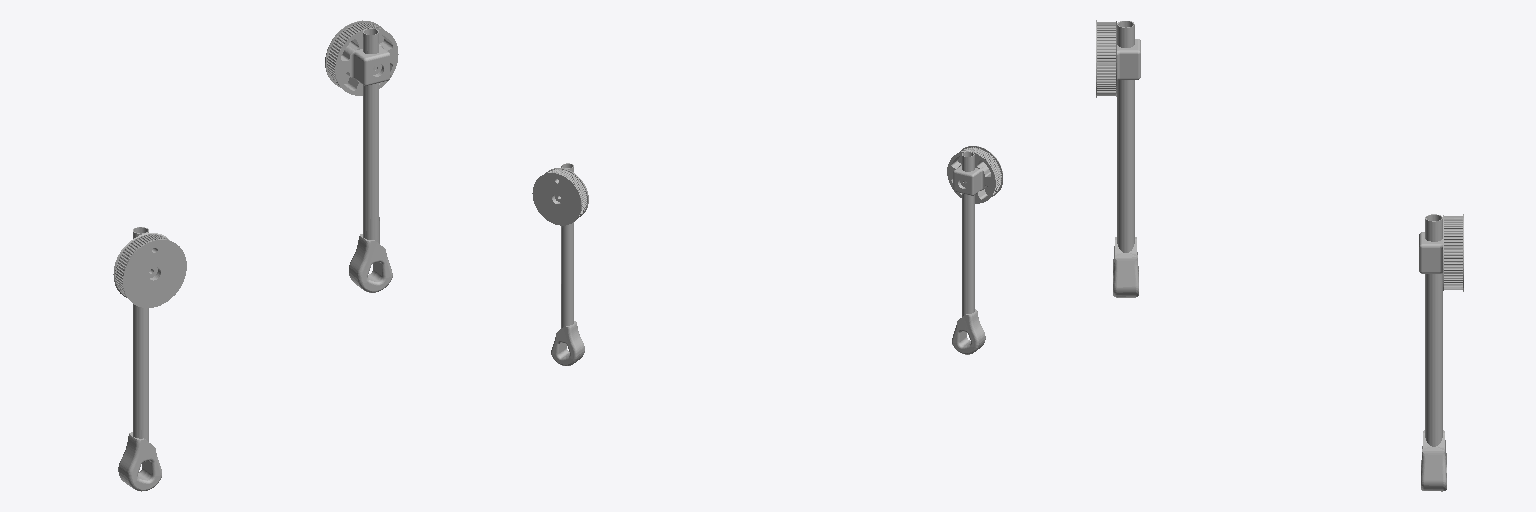
robot.urdf — claw:
<?xml version="1.0" encoding="utf-8"?>
<!-- This URDF was automatically created by SolidWorks to URDF Exporter! Originally created by [author] ([email redacted]) 
     Commit Version: 1.6.0-4-g7f85cfe  Build Version: 1.6.7995.38578
     For more information, please see http://wiki.ros.org/sw_urdf_exporter -->
<robot
  name="claw">
  <link
    name="base_link">
    <inertial>
      <origin
        xyz="0.0035472 -0.015685 0.00012867"
        rpy="0 0 0" />
      <mass
        value="5" />
      <inertia
        ixx="0.0031694"
        ixy="-6.3109E-06"
        ixz="-1.7238E-07"
        iyy="0.010685"
        iyz="1.0915E-07"
        izz="0.009926" />
    </inertial>
    <visual>
      <origin
        xyz="0 0 0"
        rpy="1.5707 0 1.5707" />
      <geometry>
        <mesh
          filename="package://claw/meshes/base_link.dae" />
      </geometry>
      <material
        name="">
        <color
          rgba="0.75294 0.75294 0.75294 1" />
      </material>
    </visual>
    <collision>
      <origin
        xyz="0 0 0"
        rpy="0 0 0" />
      <geometry>
        <mesh
          filename="package://claw/meshes/base_link.STL" />
      </geometry>
    </collision>
  </link>
  <link
    name="hip1">
    <inertial>
      <origin
        xyz="-0.023449 -0.012102 0.12134"
        rpy="0 0 0" />
      <mass
        value="1" />
      <inertia
        ixx="0.00038685"
        ixy="-1.3557E-05"
        ixz="-2.6501E-06"
        iyy="0.00040347"
        iyz="2.7091E-05"
        izz="0.00035185" />
    </inertial>
    <visual>
      <origin
        xyz="0 0 0"
        rpy="0 0 0" />
      <geometry>
        <mesh
          filename="package://claw/meshes/hip1.dae" />
      </geometry>
      <material
        name="">
        <color
          rgba="0.75294 0.75294 0.75294 1" />
      </material>
    </visual>
    <collision>
      <origin
        xyz="0 0 0"
        rpy="0 0 0" />
      <geometry>
        <mesh
          filename="package://claw/meshes/hip1.STL" />
      </geometry>
    </collision>
  </link>
  <joint
    name="HA1"
    type="continuous">
    <origin
      xyz="0.0645 0.1407 -0.030524"
      rpy="0 1.5708 0" />
    <parent
      link="base_link" />
    <child
      link="hip1" />
    <axis
      xyz="0 0 1" />
  </joint>
  <link
    name="leg1_link1">
    <inertial>
      <origin
        xyz="0.081078 -5.4044E-05 0.010528"
        rpy="0 0 0" />
      <mass
        value="1.5" />
      <inertia
        ixx="0.00016951"
        ixy="-3.6625E-05"
        ixz="3.3507E-07"
        iyy="0.0011555"
        iyz="5.0545E-08"
        izz="0.0013025" />
    </inertial>
    <visual>
      <origin
        xyz="0 0 0"
        rpy="0 0 0" />
      <geometry>
        <mesh
          filename="package://claw/meshes/leg1_link1.dae" />
      </geometry>
      <material
        name="">
        <color
          rgba="0.75294 0.75294 0.75294 1" />
      </material>
    </visual>
    <collision>
      <origin
        xyz="0 0 0"
        rpy="0 0 0" />
      <geometry>
        <mesh
          filename="package://claw/meshes/leg1_link1.STL" />
      </geometry>
    </collision>
  </link>
  <joint
    name="HF1"
    type="continuous">
    <origin
      xyz="0.0361733752673749 0 0.173825001007693"
      rpy="-1.5707963267949 0 0" />
    <parent
      link="hip1" />
    <child
      link="leg1_link1" />
    <axis
      xyz="0 0 1" />
  </joint>
  <link
    name="leg1_link2">
    <inertial>
      <origin
        xyz="0.062745 0.00028101 0.0091689"
        rpy="0 0 0" />
      <mass
        value="0.3" />
      <inertia
        ixx="2.4886E-05"
        ixy="4.039E-07"
        ixz="-5.3837E-08"
        iyy="8.2423E-05"
        iyz="-2.8631E-08"
        izz="9.1326E-05" />
    </inertial>
    <visual>
      <origin
        xyz="0 0 0"
        rpy="0 0 0" />
      <geometry>
        <mesh
          filename="package://claw/meshes/leg1_link2.dae" />
      </geometry>
      <material
        name="">
        <color
          rgba="0.75294 0.75294 0.75294 1" />
      </material>
    </visual>
    <collision>
      <origin
        xyz="0 0 0"
        rpy="0 0 0" />
      <geometry>
        <mesh
          filename="package://claw/meshes/leg1_link2.STL" />
      </geometry>
    </collision>
  </link>
  <joint
    name="KF1"
    type="continuous">
    <origin
      xyz="0.2245 0 0"
      rpy="0 0 -0.0014246" />
    <parent
      link="leg1_link1" />
    <child
      link="leg1_link2" />
    <axis
      xyz="0 0 1" />
  </joint>
  <link
    name="hip2">
    <inertial>
      <origin
        xyz="-0.023416 0.01208 0.12041"
        rpy="0 0 0" />
      <mass
        value="1" />
      <inertia
        ixx="0.00038698"
        ixy="1.3536E-05"
        ixz="-2.6717E-06"
        iyy="0.00040367"
        iyz="-2.7103E-05"
        izz="0.00035209" />
    </inertial>
    <visual>
      <origin
        xyz="0 0 0"
        rpy="0 0 0" />
      <geometry>
        <mesh
          filename="package://claw/meshes/hip2.dae" />
      </geometry>
      <material
        name="">
        <color
          rgba="0.75294 0.75294 0.75294 1" />
      </material>
    </visual>
    <collision>
      <origin
        xyz="0 0 0"
        rpy="0 0 0" />
      <geometry>
        <mesh
          filename="package://claw/meshes/hip2.STL" />
      </geometry>
    </collision>
  </link>
  <joint
    name="HA2"
    type="continuous">
    <origin
      xyz="0.0654999999999997 -0.140699273206225 -0.0305242368205386"
      rpy="0 1.5707963267949 0" />
    <parent
      link="base_link" />
    <child
      link="hip2" />
    <axis
      xyz="0 0 1" />
  </joint>
  <link
    name="leg2_link1">
    <inertial>
      <origin
        xyz="0.081078 -5.1327E-05 -0.010528"
        rpy="0 0 0" />
      <mass
        value="1.5" />
      <inertia
        ixx="0.00016951"
        ixy="-3.6626E-05"
        ixz="-3.3506E-07"
        iyy="0.0011555"
        iyz="-4.7415E-08"
        izz="0.0013025" />
    </inertial>
    <visual>
      <origin
        xyz="0 0 0"
        rpy="0 0 0" />
      <geometry>
        <mesh
          filename="package://claw/meshes/leg2_link1.dae" />
      </geometry>
      <material
        name="">
        <color
          rgba="0.75294 0.75294 0.75294 1" />
      </material>
    </visual>
    <collision>
      <origin
        xyz="0 0 0"
        rpy="0 0 0" />
      <geometry>
        <mesh
          filename="package://claw/meshes/leg2_link1.STL" />
      </geometry>
    </collision>
  </link>
  <joint
    name="HF2"
    type="continuous">
    <origin
      xyz="0.0361733752673847 0 0.172825001007691"
      rpy="-1.5707963267949 0 0" />
    <parent
      link="hip2" />
    <child
      link="leg2_link1" />
    <axis
      xyz="0 0 1" />
  </joint>
  <link
    name="leg2_link2">
    <inertial>
      <origin
        xyz="0.062744 0.00028101 -0.009169"
        rpy="0 0 0" />
      <mass
        value="0.3" />
      <inertia
        ixx="2.4886E-05"
        ixy="4.039E-07"
        ixz="5.3766E-08"
        iyy="8.2423E-05"
        iyz="2.8771E-08"
        izz="9.1326E-05" />
    </inertial>
    <visual>
      <origin
        xyz="0 0 0"
        rpy="0 0 0" />
      <geometry>
        <mesh
          filename="package://claw/meshes/leg2_link2.dae" />
      </geometry>
      <material
        name="">
        <color
          rgba="0.75294 0.75294 0.75294 1" />
      </material>
    </visual>
    <collision>
      <origin
        xyz="0 0 0"
        rpy="0 0 0" />
      <geometry>
        <mesh
          filename="package://claw/meshes/leg2_link2.STL" />
      </geometry>
    </collision>
  </link>
  <joint
    name="KF2"
    type="continuous">
    <origin
      xyz="0.22449657290337 0 0"
      rpy="0 0 -0.00142456498764465" />
    <parent
      link="leg2_link1" />
    <child
      link="leg2_link2" />
    <axis
      xyz="0 0 1" />
  </joint>
  <link
    name="hip3">
    <inertial>
      <origin
        xyz="-0.023415 0.012095 -0.1106"
        rpy="0 0 0" />
      <mass
        value="1" />
      <inertia
        ixx="0.00038695"
        ixy="1.355E-05"
        ixz="-3.9215E-05"
        iyy="0.00040367"
        iyz="2.8393E-05"
        izz="0.00035212" />
    </inertial>
    <visual>
      <origin
        xyz="0 0 0"
        rpy="0 0 0" />
      <geometry>
        <mesh
          filename="package://claw/meshes/hip3.dae" />
      </geometry>
      <material
        name="">
        <color
          rgba="0.75294 0.75294 0.75294 1" />
      </material>
    </visual>
    <collision>
      <origin
        xyz="0 0 0"
        rpy="0 0 0" />
      <geometry>
        <mesh
          filename="package://claw/meshes/hip3.STL" />
      </geometry>
    </collision>
  </link>
  <joint
    name="HA3"
    type="continuous">
    <origin
      xyz="-0.0655000000000001 -0.140699273206226 -0.0305242368205381"
      rpy="0 1.5707963267949 0" />
    <parent
      link="base_link" />
    <child
      link="hip3" />
    <axis
      xyz="0 0 1" />
  </joint>
  <link
    name="leg3_link1">
    <inertial>
      <origin
        xyz="0.081078 -5.1327E-05 -0.010528"
        rpy="0 0 0" />
      <mass
        value="1.5" />
      <inertia
        ixx="0.00016951"
        ixy="-3.6626E-05"
        ixz="-3.3506E-07"
        iyy="0.0011555"
        iyz="-4.7415E-08"
        izz="0.0013025" />
    </inertial>
    <visual>
      <origin
        xyz="0 0 0"
        rpy="0 0 0" />
      <geometry>
        <mesh
          filename="package://claw/meshes/leg3_link1.dae" />
      </geometry>
      <material
        name="">
        <color
          rgba="0.75294 0.75294 0.75294 1" />
      </material>
    </visual>
    <collision>
      <origin
        xyz="0 0 0"
        rpy="0 0 0" />
      <geometry>
        <mesh
          filename="package://claw/meshes/leg3_link1.STL" />
      </geometry>
    </collision>
  </link>
  <joint
    name="HF3"
    type="continuous">
    <origin
      xyz="0.0361733752673756 0 -0.116174998992309"
      rpy="-1.5707963267949 0 0" />
    <parent
      link="hip3" />
    <child
      link="leg3_link1" />
    <axis
      xyz="0 0 1" />
  </joint>
  <link
    name="leg3_link2">
    <inertial>
      <origin
        xyz="0.062744 0.00028101 -0.009169"
        rpy="0 0 0" />
      <mass
        value="0.3" />
      <inertia
        ixx="2.4886E-05"
        ixy="4.039E-07"
        ixz="5.3766E-08"
        iyy="8.2423E-05"
        iyz="2.8771E-08"
        izz="9.1326E-05" />
    </inertial>
    <visual>
      <origin
        xyz="0 0 0"
        rpy="0 0 0" />
      <geometry>
        <mesh
          filename="package://claw/meshes/leg3_link2.dae" />
      </geometry>
      <material
        name="">
        <color
          rgba="0.75294 0.75294 0.75294 1" />
      </material>
    </visual>
    <collision>
      <origin
        xyz="0 0 0"
        rpy="0 0 0" />
      <geometry>
        <mesh
          filename="package://claw/meshes/leg3_link2.STL" />
      </geometry>
    </collision>
  </link>
  <joint
    name="KF3"
    type="continuous">
    <origin
      xyz="0.22449657290337 0 0"
      rpy="0 0 -0.00013038185156131" />
    <parent
      link="leg3_link1" />
    <child
      link="leg3_link2" />
    <axis
      xyz="0 0 1" />
  </joint>
  <link
    name="hip4">
    <inertial>
      <origin
        xyz="-0.02344 -0.012117 -0.11057"
        rpy="0 0 0" />
      <mass
        value="1" />
      <inertia
        ixx="0.00038684"
        ixy="-1.3565E-05"
        ixz="-3.9188E-05"
        iyy="0.00040347"
        iyz="-2.8419E-05"
        izz="0.00035187" />
    </inertial>
    <visual>
      <origin
        xyz="0 0 0"
        rpy="0 0 0" />
      <geometry>
        <mesh
          filename="package://claw/meshes/hip4.dae" />
      </geometry>
      <material
        name="">
        <color
          rgba="0.75294 0.75294 0.75294 1" />
      </material>
    </visual>
    <collision>
      <origin
        xyz="0 0 0"
        rpy="0 0 0" />
      <geometry>
        <mesh
          filename="package://claw/meshes/hip4.STL" />
      </geometry>
    </collision>
  </link>
  <joint
    name="HA4"
    type="continuous">
    <origin
      xyz="-0.0655 0.1407 -0.030524"
      rpy="0 1.5708 0" />
    <parent
      link="base_link" />
    <child
      link="hip4" />
    <axis
      xyz="0 0 1" />
  </joint>
  <link
    name="leg4_link1">
    <inertial>
      <origin
        xyz="0.081078 -5.4044E-05 0.010528"
        rpy="0 0 0" />
      <mass
        value="1.5" />
      <inertia
        ixx="0.00016951"
        ixy="-3.6625E-05"
        ixz="3.3507E-07"
        iyy="0.0011555"
        iyz="5.0545E-08"
        izz="0.0013025" />
    </inertial>
    <visual>
      <origin
        xyz="0 0 0"
        rpy="0 0 0" />
      <geometry>
        <mesh
          filename="package://claw/meshes/leg4_link1.dae" />
      </geometry>
      <material
        name="">
        <color
          rgba="0.75294 0.75294 0.75294 1" />
      </material>
    </visual>
    <collision>
      <origin
        xyz="0 0 0"
        rpy="0 0 0" />
      <geometry>
        <mesh
          filename="package://claw/meshes/leg4_link1.STL" />
      </geometry>
    </collision>
  </link>
  <joint
    name="HF4"
    type="continuous">
    <origin
      xyz="0.0361733752673765 0 -0.116174998992308"
      rpy="-1.5707963267949 0 0" />
    <parent
      link="hip4" />
    <child
      link="leg4_link1" />
    <axis
      xyz="0 0 1" />
  </joint>
  <link
    name="leg4_link2">
    <inertial>
      <origin
        xyz="0.062745 0.00028101 0.0091689"
        rpy="0 0 0" />
      <mass
        value="0.3" />
      <inertia
        ixx="2.4886E-05"
        ixy="4.039E-07"
        ixz="-5.3837E-08"
        iyy="8.2423E-05"
        iyz="-2.8631E-08"
        izz="9.1326E-05" />
    </inertial>
    <visual>
      <origin
        xyz="0 0 0"
        rpy="0 0 0" />
      <geometry>
        <mesh
          filename="package://claw/meshes/leg4_link2.dae" />
      </geometry>
      <material
        name="">
        <color
          rgba="0.75294 0.75294 0.75294 1" />
      </material>
    </visual>
    <collision>
      <origin
        xyz="0 0 0"
        rpy="0 0 0" />
      <geometry>
        <mesh
          filename="package://claw/meshes/leg4_link2.STL" />
      </geometry>
    </collision>
  </link>
  <joint
    name="KF4"
    type="continuous">
    <origin
      xyz="0.2245 0 0"
      rpy="0 0 -0.00013038" />
    <parent
      link="leg4_link1" />
    <child
      link="leg4_link2" />
    <axis
      xyz="0 0 1" />
  </joint>
</robot>

--- Facts derived from the render (not from the file) ---
Views: 3 orthographic renders of the robot side by side, from view 1: azimuth 30°, elevation 25°; view 2: azimuth 150°, elevation 25°; view 3: azimuth 270°, elevation 25°.
Model claw with 13 links and 12 joints (12 continuous), rooted at base_link, posed every joint at zero.
Visible links, largest first — view 1: leg1_link2, leg3_link2; view 2: leg3_link2, leg1_link2; view 3: leg3_link2, leg1_link2.
Link boxes in pixels (box(x1,y1,x2,y2)): leg1_link2: box(325, 20, 398, 292); leg3_link2: box(113, 227, 186, 491); leg3_link2: box(947, 146, 1002, 354); leg1_link2: box(532, 163, 588, 365); leg3_link2: box(1096, 20, 1140, 297); leg1_link2: box(1419, 214, 1463, 491).
Size in the robot's own frame: 0.4914 by 0.3366 by 0.2747 metres.
2 mesh visuals loaded from 13 distinct referenced files (2 Collada DAE); not drawn: 11 (reference not matched to a file when rendering).